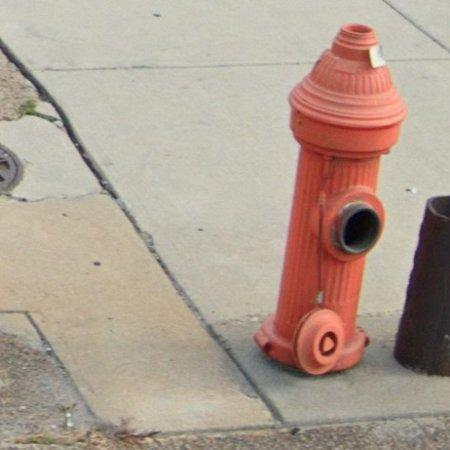a fire hydrant: (256, 24, 408, 375)
